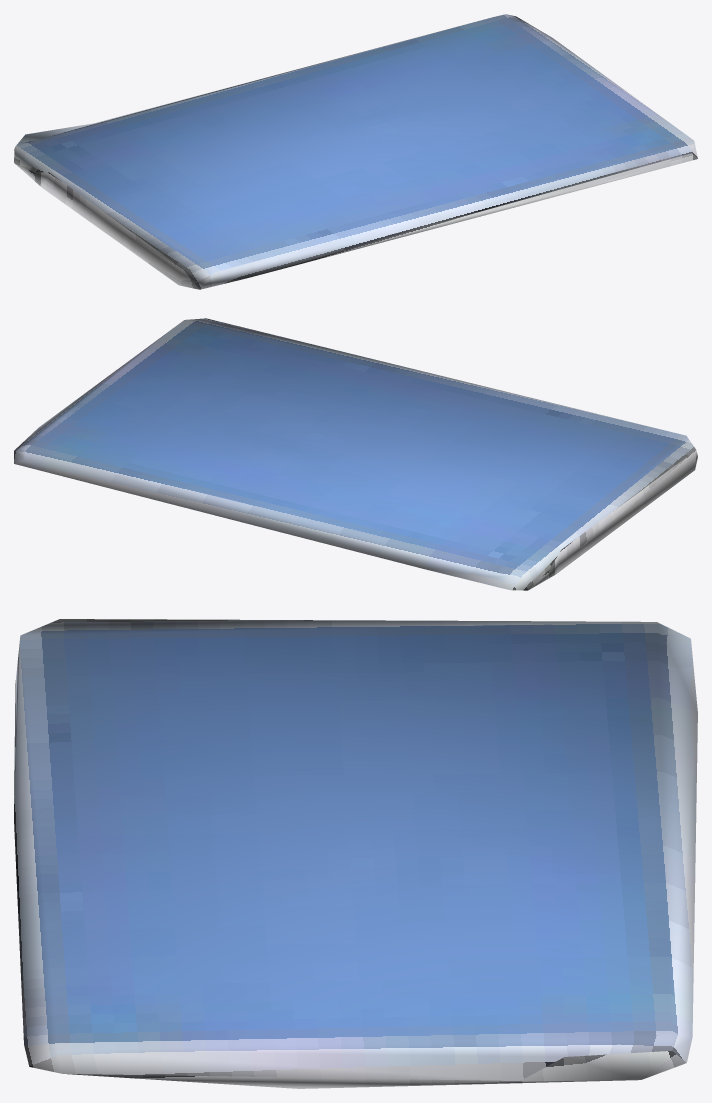
The model's file is HP_1800_Tablet_8GB_7-low.glb.
3 renders of one model, top to bottom at view 1: azimuth 30°, elevation 25°; view 2: azimuth 150°, elevation 25°; view 3: azimuth 270°, elevation 25°, orthographic. The views are drawn at different scales.
Visible parts, largest first — view 1: HP_1800_Tablet_8GB_7; view 2: HP_1800_Tablet_8GB_7; view 3: HP_1800_Tablet_8GB_7.
Boxes of the visible parts, x1=… form: HP_1800_Tablet_8GB_7: x1=14, y1=14, x2=697, y2=289; HP_1800_Tablet_8GB_7: x1=14, y1=318, x2=697, y2=590; HP_1800_Tablet_8GB_7: x1=14, y1=619, x2=697, y2=1088.
Bounding box in the file's own units: 0.1929 × 0.0123 × 0.1255.
1 material, 1 textured.
